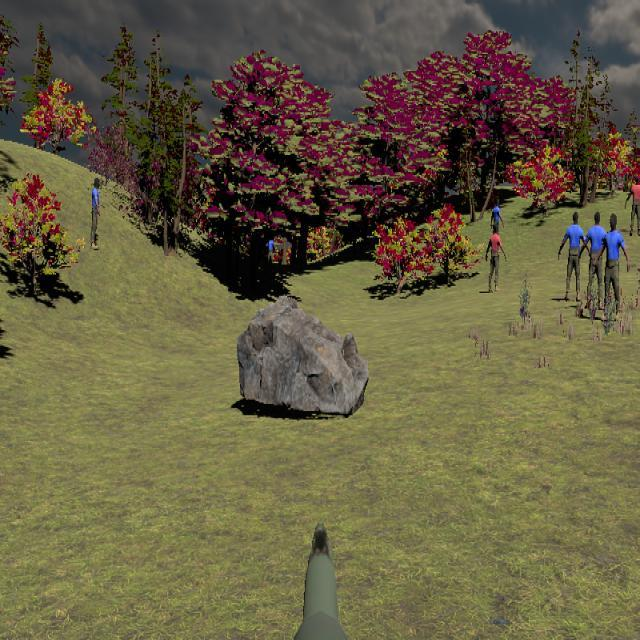Human: (595, 215, 629, 321), (580, 212, 612, 306), (558, 212, 590, 302), (486, 222, 507, 294), (625, 176, 640, 235)
